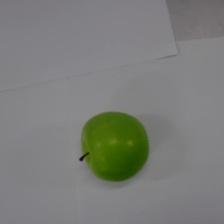green: (79, 110, 150, 182)
